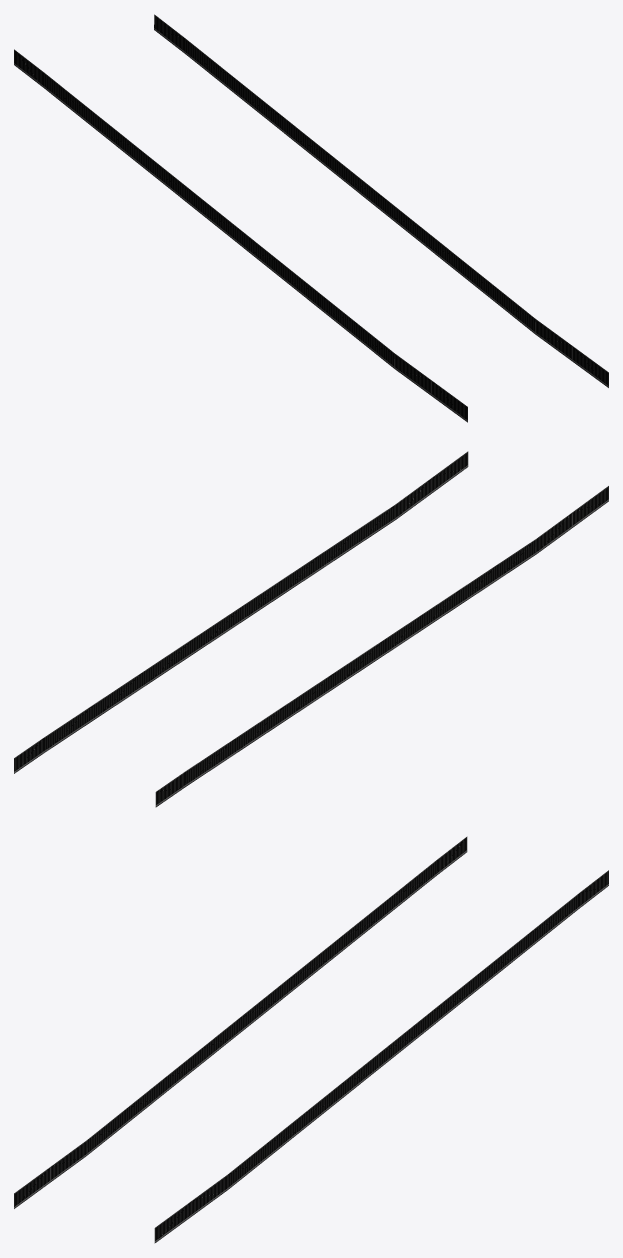
The model's file is vegstadrail69.obj.
The picture shows the model from 3 angles, top to bottom: view 1: azimuth 30°, elevation 25°; view 2: azimuth 150°, elevation 25°; view 3: azimuth 330°, elevation 25°; orthographic projection.
Visible parts, largest first — view 1: vegstadrail69; view 2: vegstadrail69; view 3: vegstadrail69.
Part boxes in pixels (x1,y1,x2,y2): vegstadrail69: (14,14,608,422); vegstadrail69: (14,451,608,807); vegstadrail69: (14,836,608,1243).
Size of the model in its own units: 9.98 by 2.79 by 55.75.
1 material, 1 textured.
